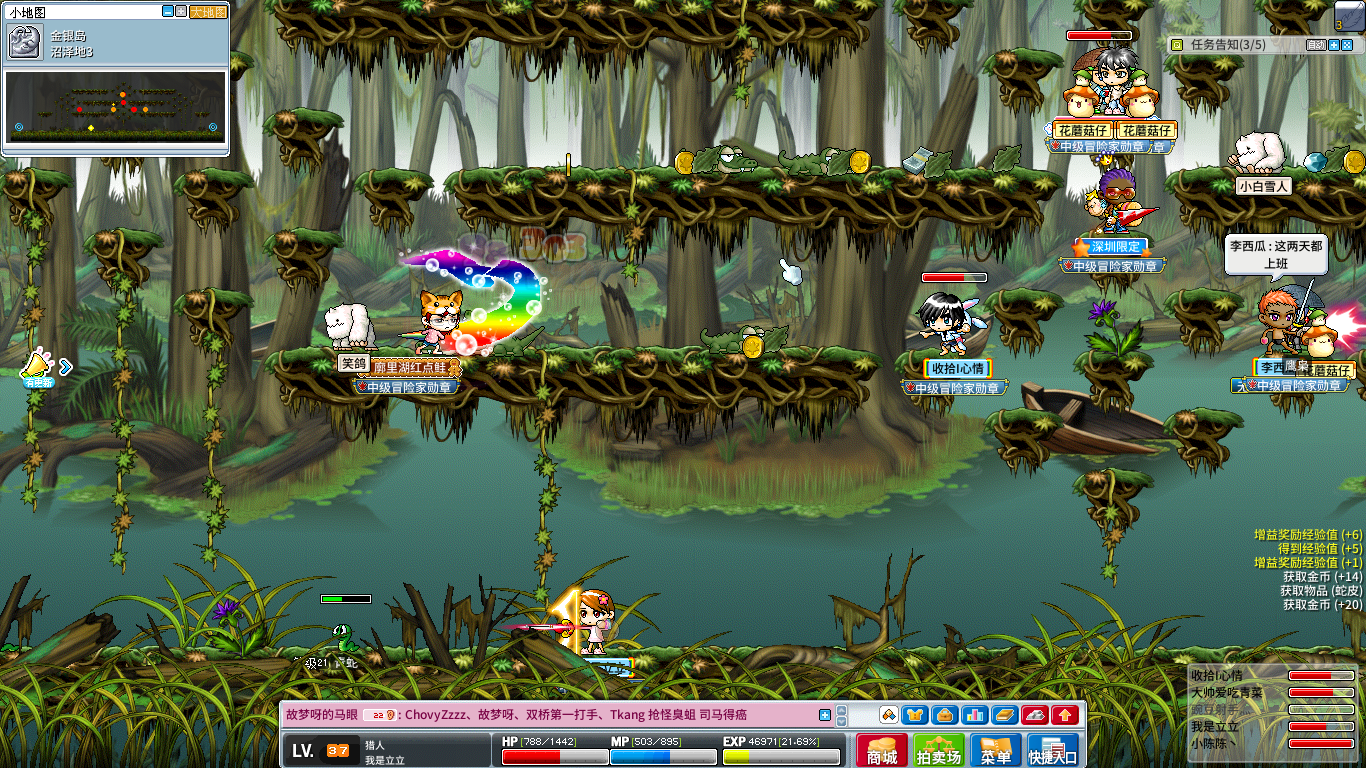monster: (333, 624, 360, 652)
